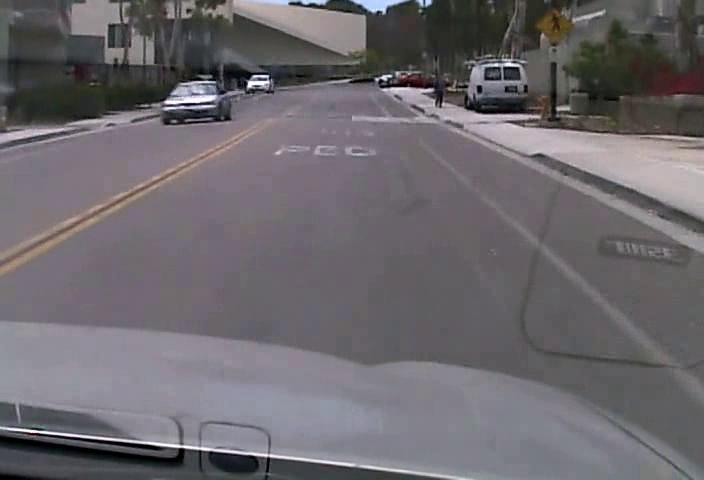pedestrianCrossing: (534, 7, 574, 45)
